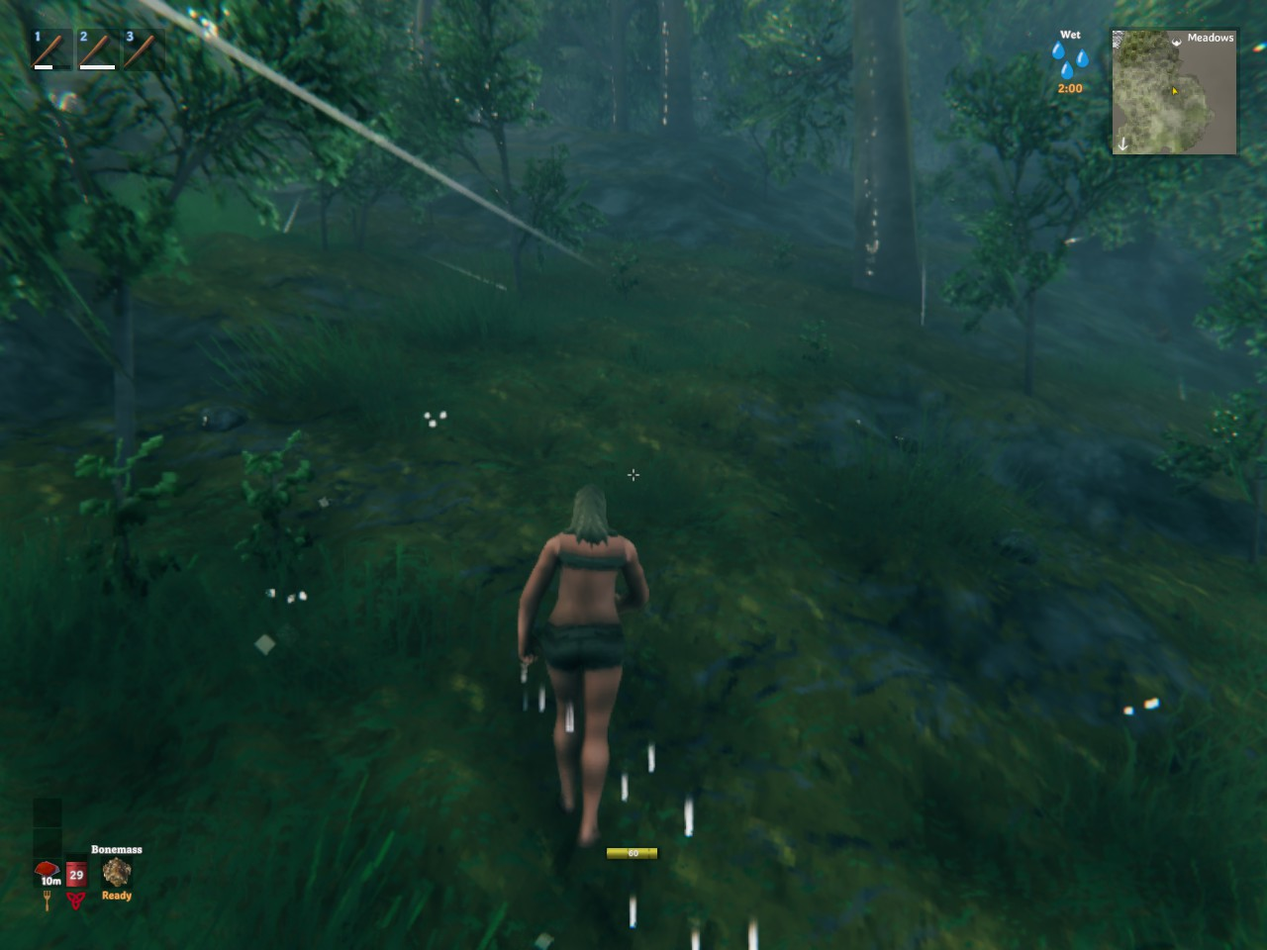Food Indicator: (36, 797, 63, 891)
Health Bar: (63, 820, 90, 891)
Hotbar: (24, 21, 195, 80)
Stamina Bar: (604, 844, 668, 866)
Status Indicator: (1024, 22, 1111, 100)
Stone: (994, 529, 1038, 564), (200, 407, 246, 430)
